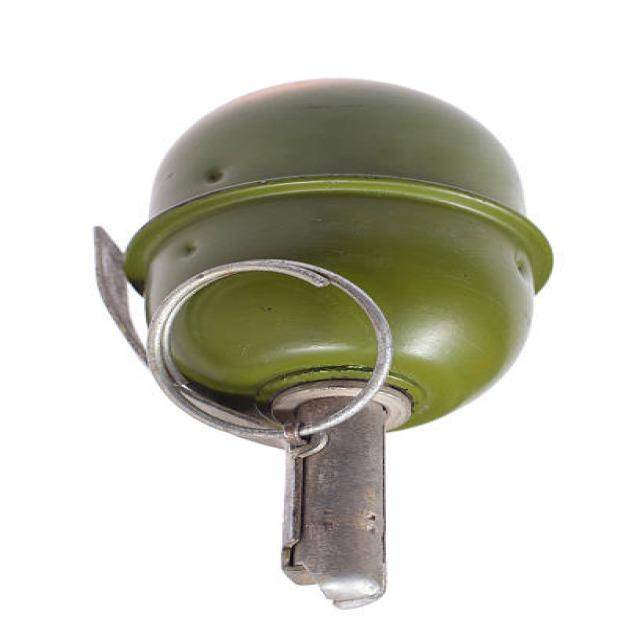grenade: (68, 67, 571, 625)
